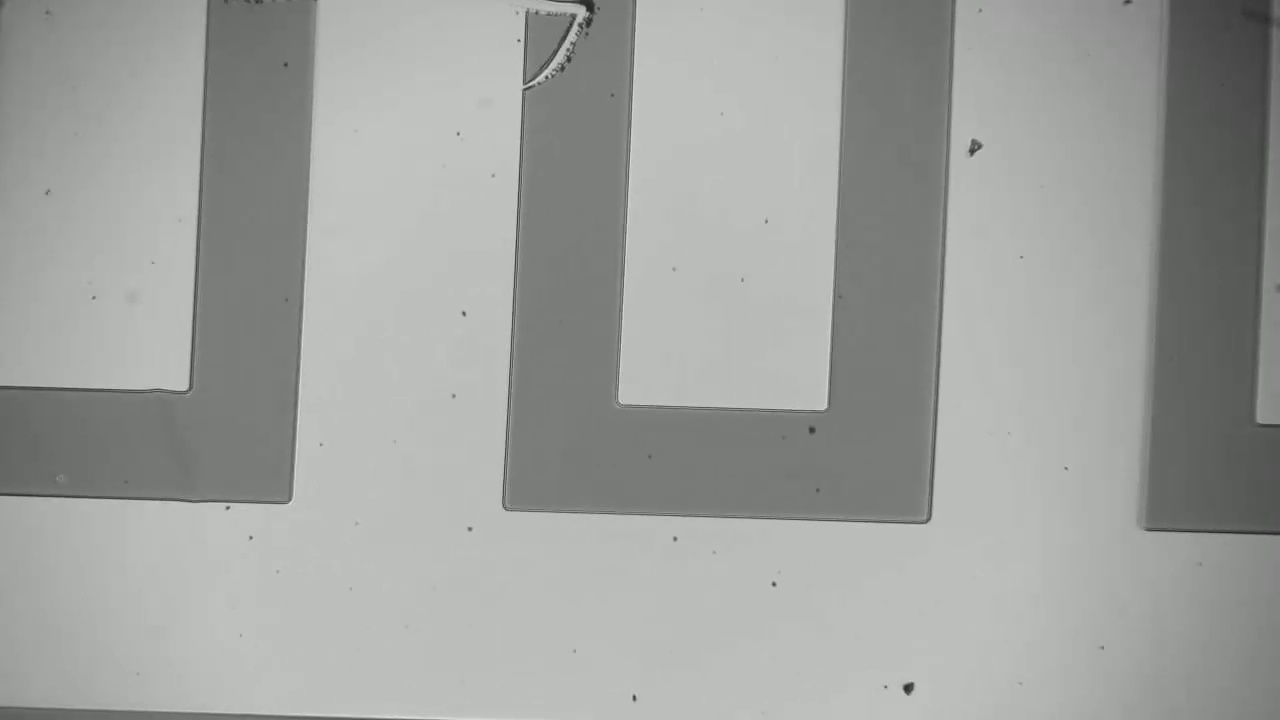Short_circuit: (505, 1, 625, 47)
